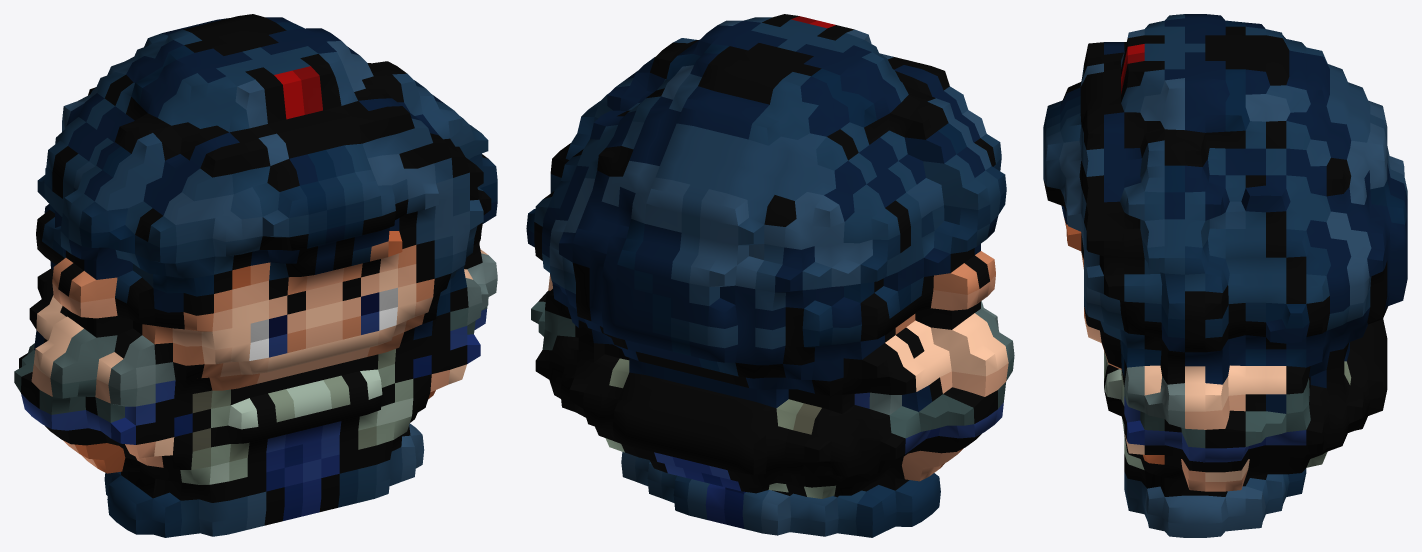
Rendered from Icon_028_02.obj.
The picture shows the model from 3 angles, left to right: view 1: azimuth 30°, elevation 25°; view 2: azimuth 150°, elevation 25°; view 3: azimuth 270°, elevation 25°; orthographic projection. The views are drawn at different scales.
Bounding box in the file's own units: 2.4 × 2.3 × 1.8.
Materials: 1 (1 with a texture image).
